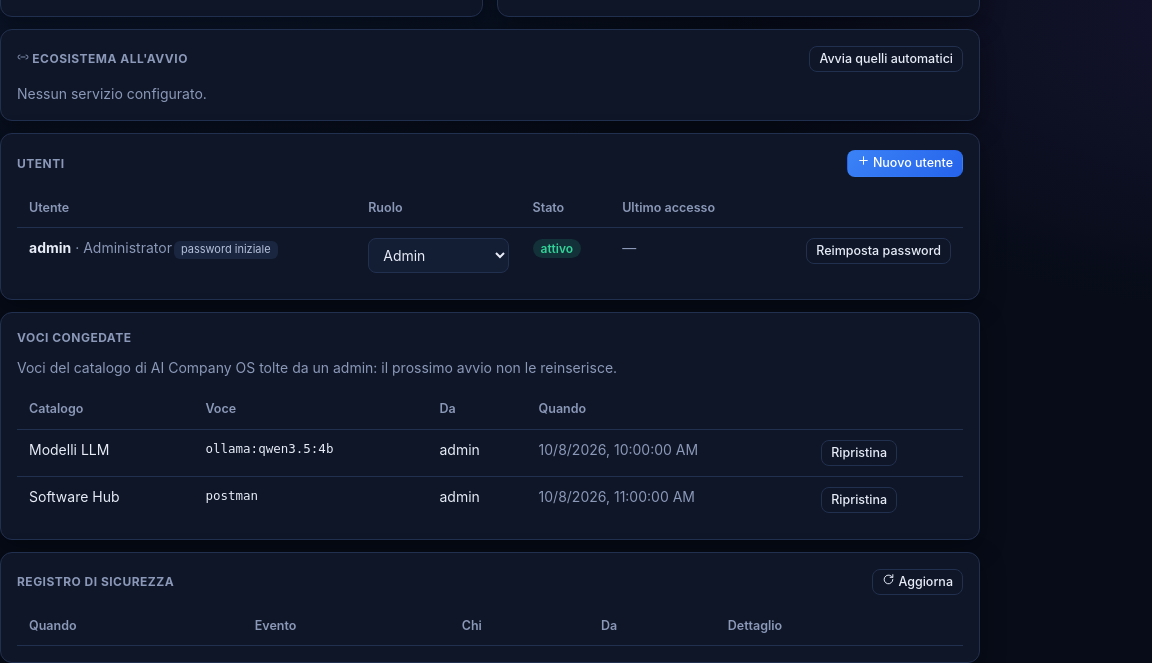
it: retired catalog entries (TD-71) › lists what an admin retired and puts one back as the catalog ships it
(page scrolled)
Expected: the text "ollama:qwen3.5:4b" is shown, [194,429,428,476]
Expected: the text "Modelli LLM" is shown, [17,429,194,476]
What coordinates should you click on to do the following:
click the button "Ripristina" in the row of "Modelli LLM"
I would click on:
 (859, 453)
Its box is [821,440,897,466].
(page scrolled)
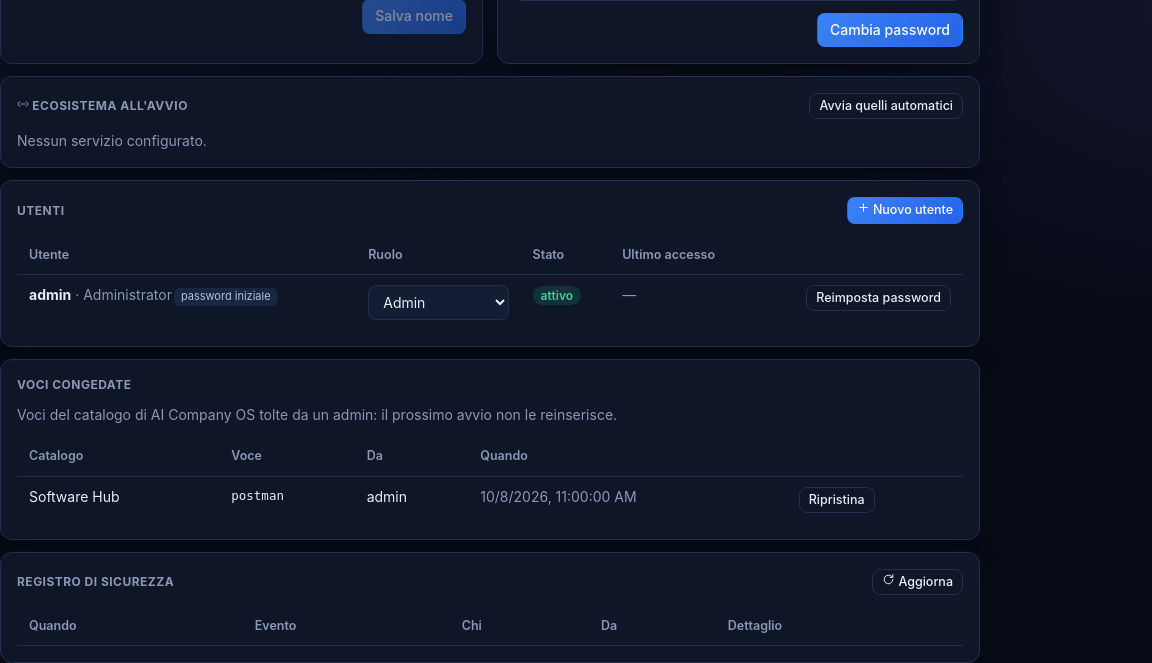
Expected: the text "postman" is shown, [219,476,355,523]
Now the text "ollama:qwen3.5:4b" is gone
